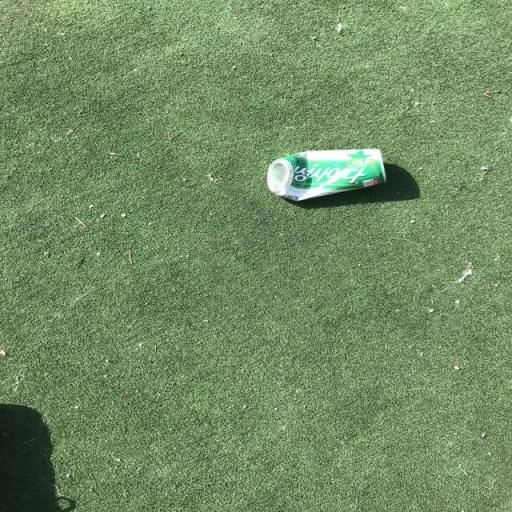metal: (237, 130, 440, 228)
